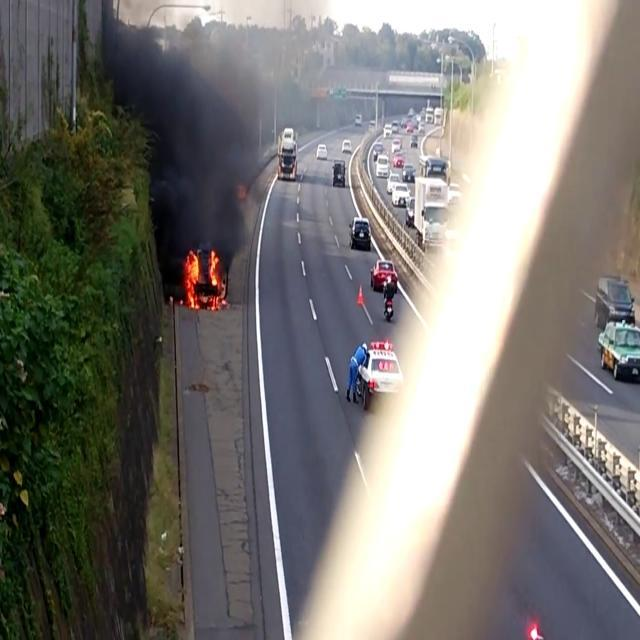Fire: (182, 242, 226, 312)
Smoke: (94, 1, 266, 241)
